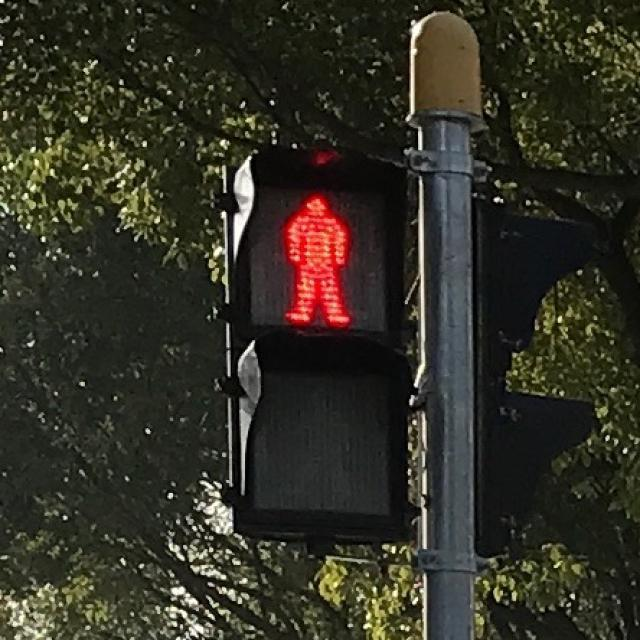red-crossing: (246, 171, 385, 336)
